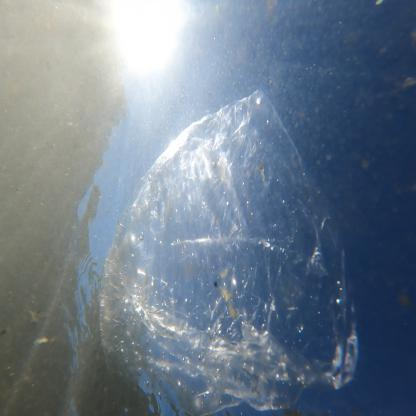Rác: (101, 95, 368, 398)
